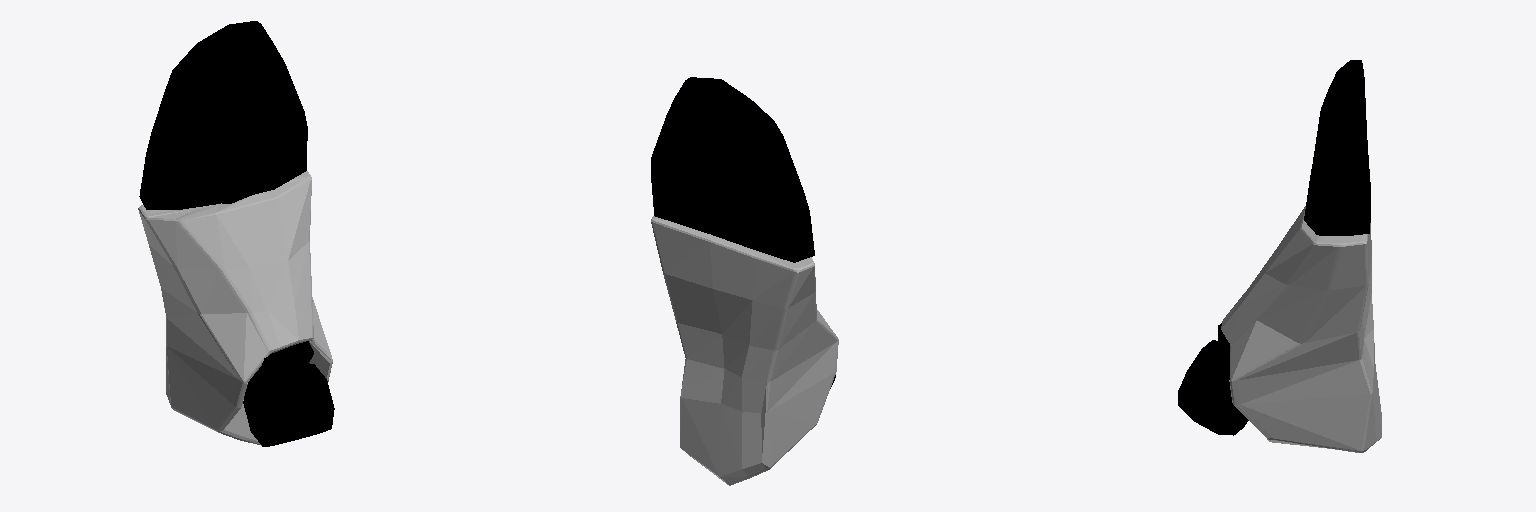
The model's file is Shoe_Left.obj.
The picture shows the model from 3 angles: view 1: azimuth 30°, elevation 25°; view 2: azimuth 150°, elevation 25°; view 3: azimuth 270°, elevation 25°; orthographic projection.
Visible parts, largest first — view 1: shoe_left, toe_left, toe_bone_left; view 2: shoe_left, toe_left; view 3: shoe_left, toe_left, toe_bone_left.
Boxes of the visible parts, x1=… form: shoe_left: x1=138, y1=171, x2=332, y2=445; toe_left: x1=139, y1=21, x2=307, y2=209; toe_bone_left: x1=222, y1=196, x2=334, y2=446; shoe_left: x1=651, y1=216, x2=838, y2=485; toe_left: x1=651, y1=77, x2=814, y2=262; shoe_left: x1=1221, y1=206, x2=1381, y2=452; toe_left: x1=1304, y1=60, x2=1370, y2=235; toe_bone_left: x1=1178, y1=323, x2=1248, y2=435.
Size of the model in its own units: 0.8054 by 1.93 by 0.9058.